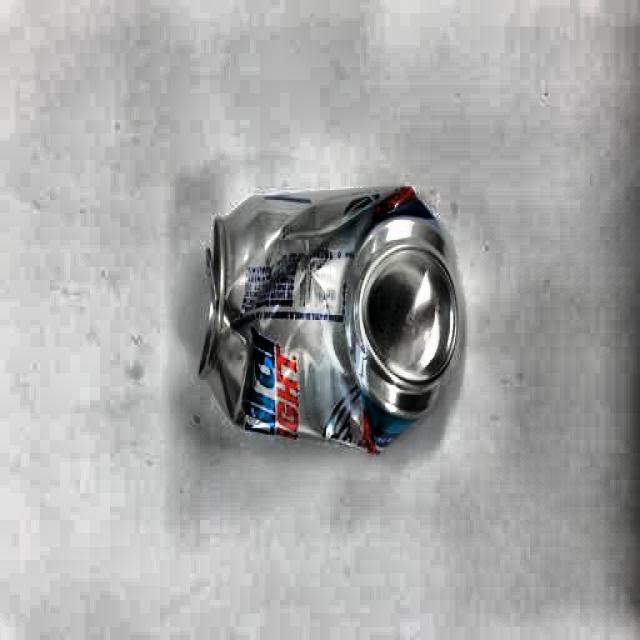metal: (202, 185, 461, 455)
